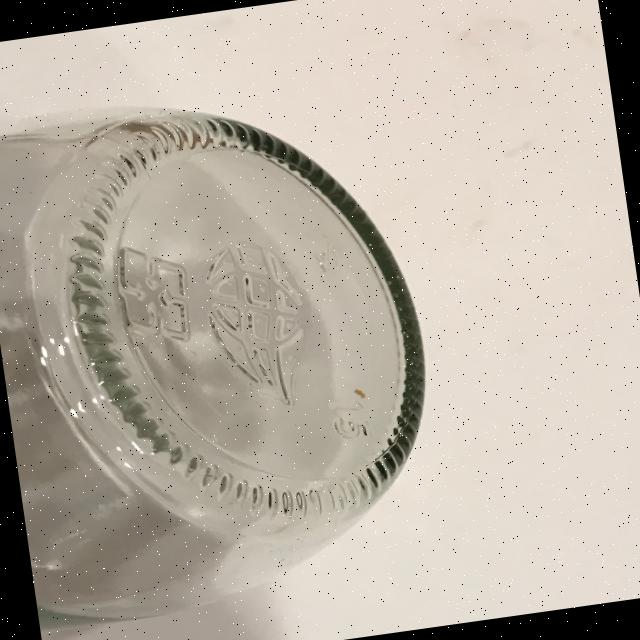glass: (0, 65, 457, 632)
